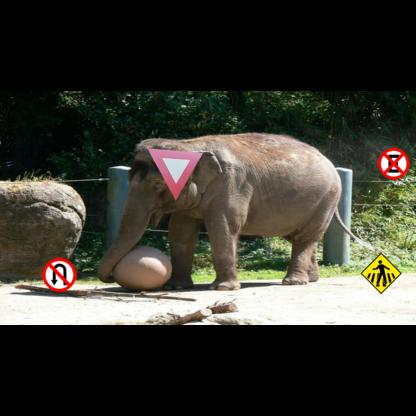A-32b: (360, 253, 402, 294)
R-2: (147, 148, 203, 200)
R-5a: (42, 258, 76, 291)
R-6c: (378, 148, 410, 180)
